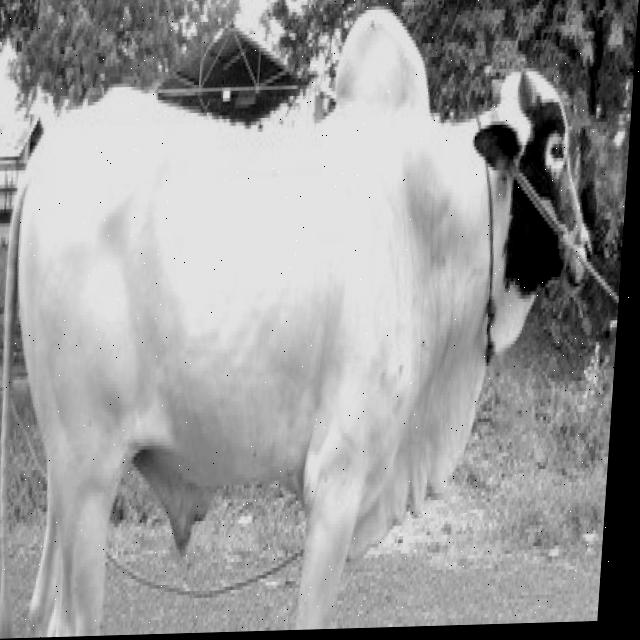Cow: (0, 0, 611, 636)
